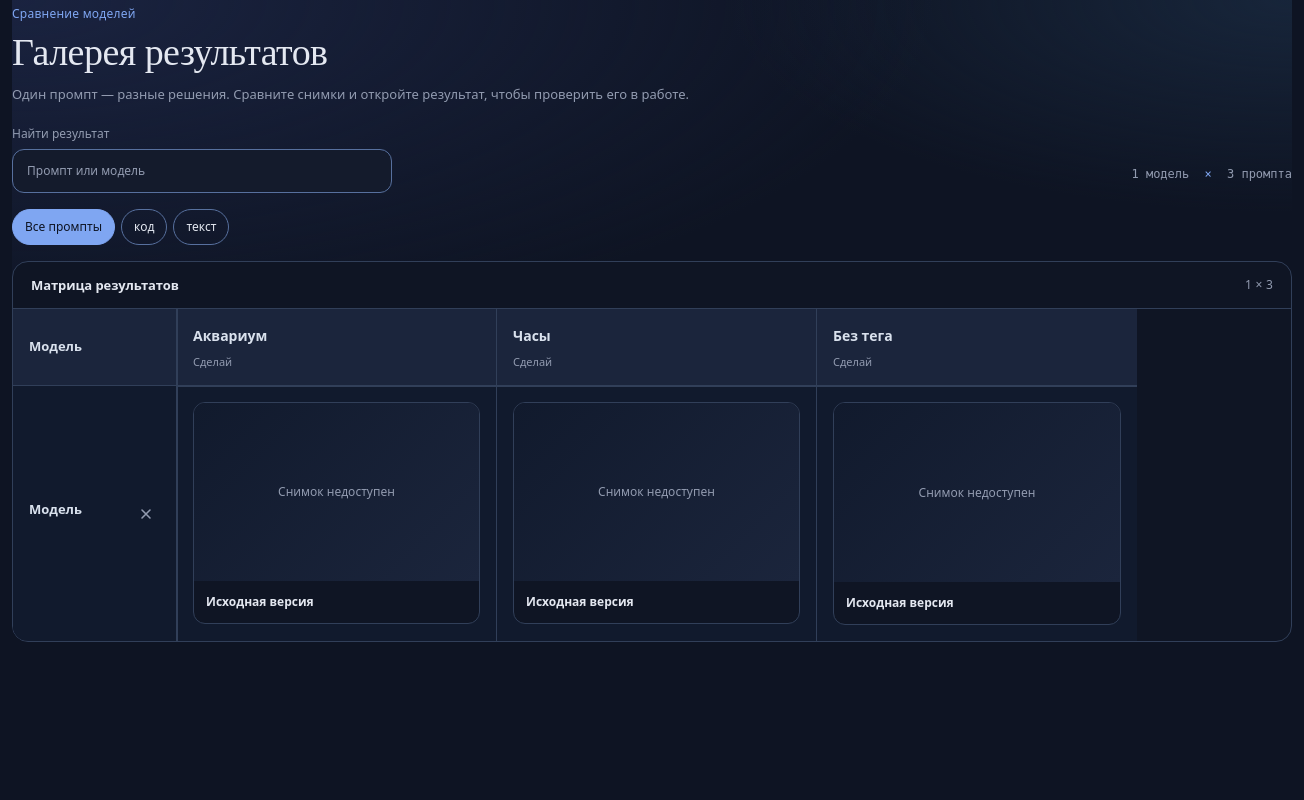
it: галерея по тегам › фильтрует по одному тегу и объединяет несколько
Check: the table is shown, box [13,309,1137,641]
Click the button "код" at [144, 227], box [121,209,167,245]
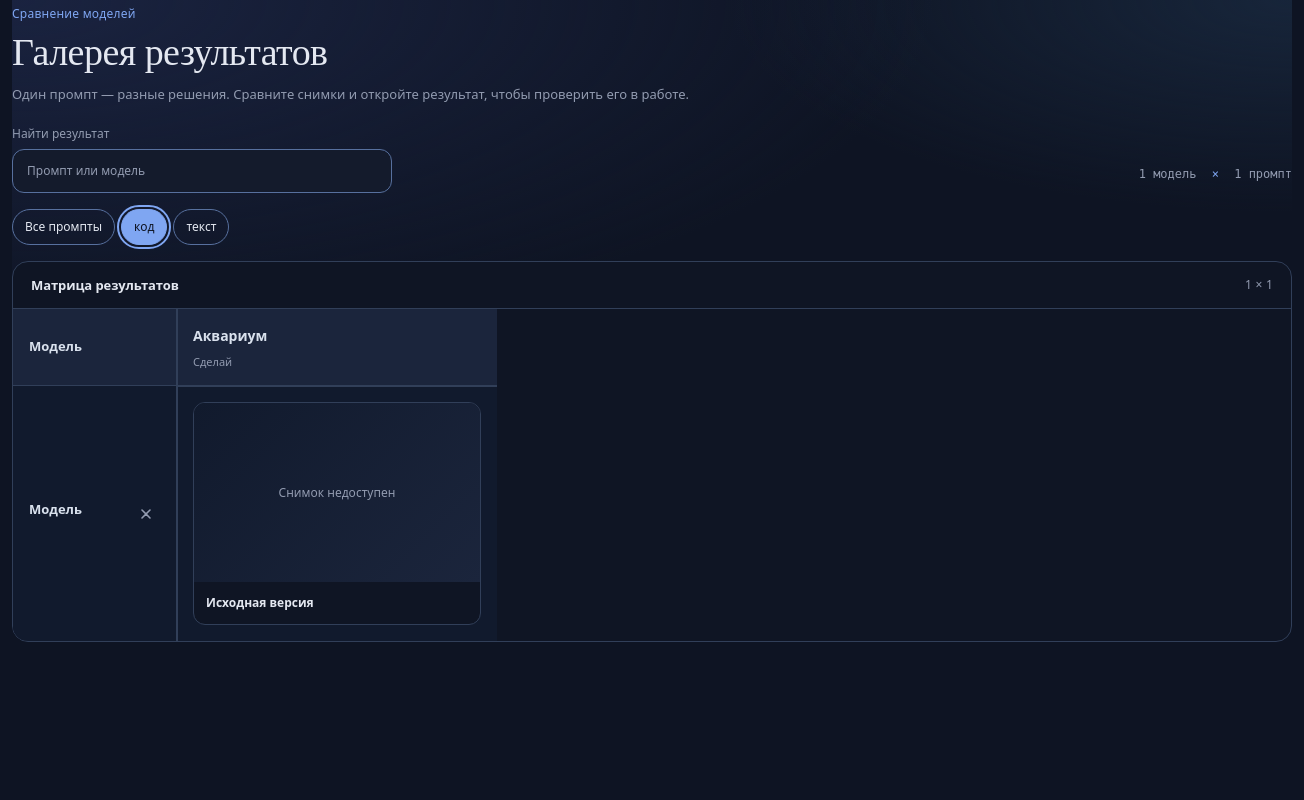
Check: the text "Аквариум" is shown, box [193,326,267,345]
Check: the text "Часы" is gone
Check: the text "Без тега" is gone
Click the button "текст" at [201, 227], box [173,209,229,245]
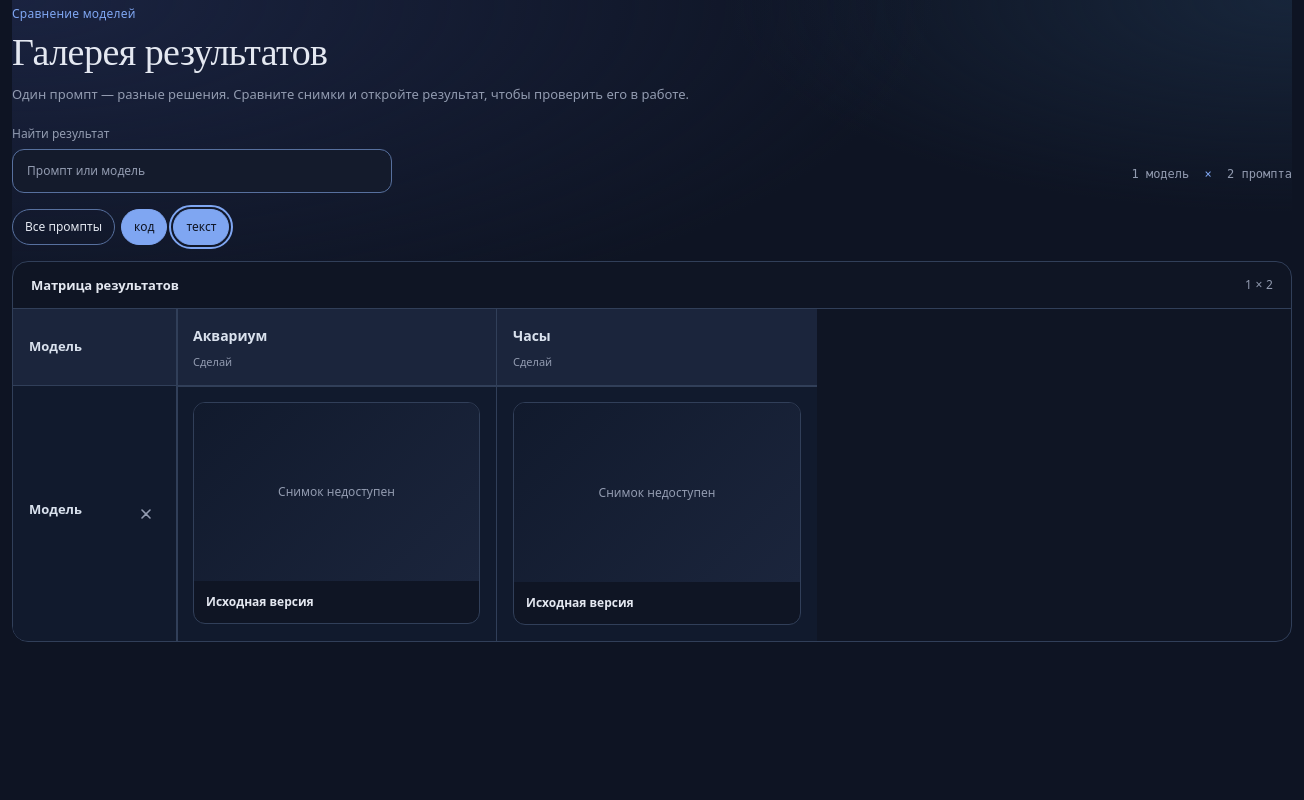
Check: the text "Аквариум" is shown, box [193,326,267,345]
Check: the text "Часы" is shown, box [513,326,551,345]
